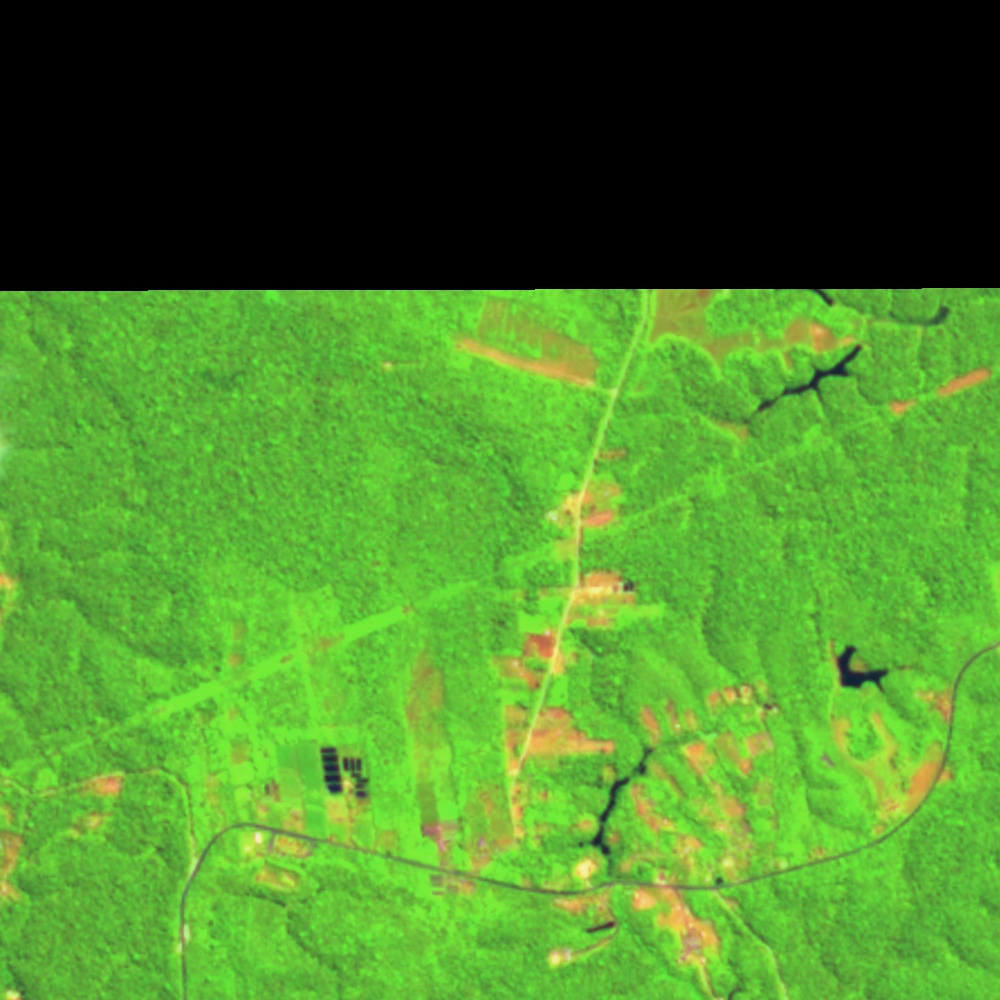legal: (404, 563, 640, 906), (550, 681, 781, 976), (646, 288, 867, 374), (826, 707, 964, 833), (233, 803, 399, 892), (455, 294, 606, 391), (553, 447, 626, 557), (885, 365, 995, 419), (823, 633, 910, 695), (1, 770, 36, 912), (65, 764, 126, 840), (316, 742, 376, 809), (908, 682, 956, 721), (709, 412, 759, 443), (1, 564, 24, 615), (1, 981, 30, 1000)
